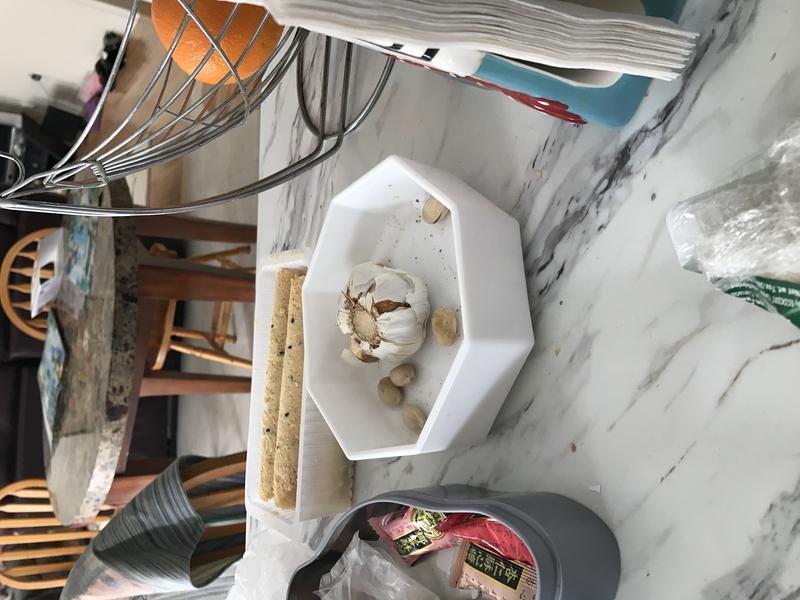garlic: (334, 253, 430, 372)
